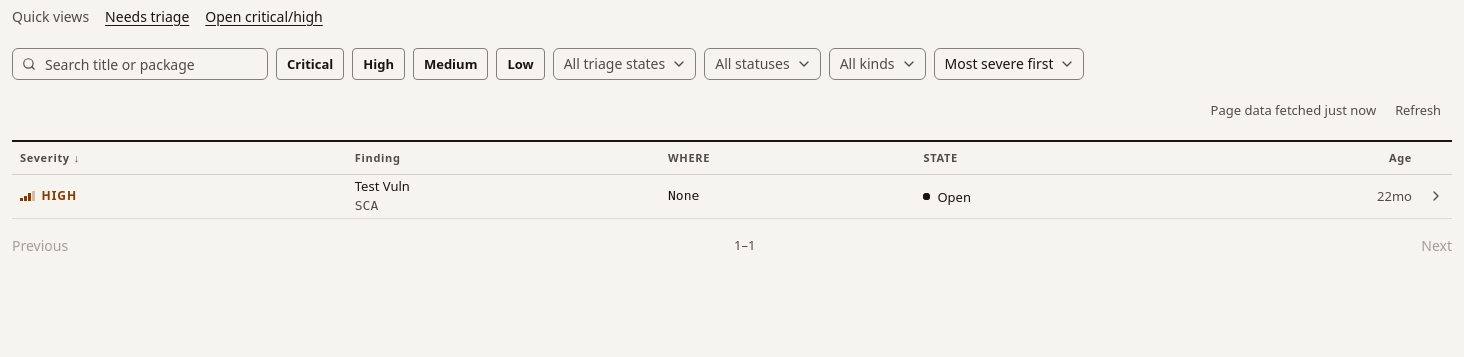
Test: FindingsDashboard › offers DAST as a finding kind filter and requests kind=dast
This screenshot has width=1464, height=357.
Expected: the link "Test Vuln" is shown, [355,177,410,195]
Click the dropdown named "Filter by finding type" at (877, 64), box [829,48,926,80]
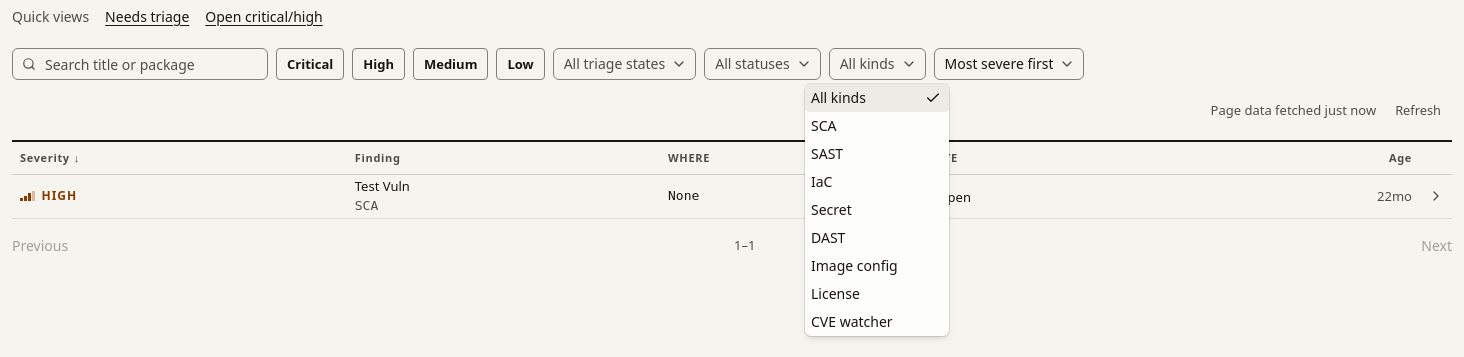
Press Escape
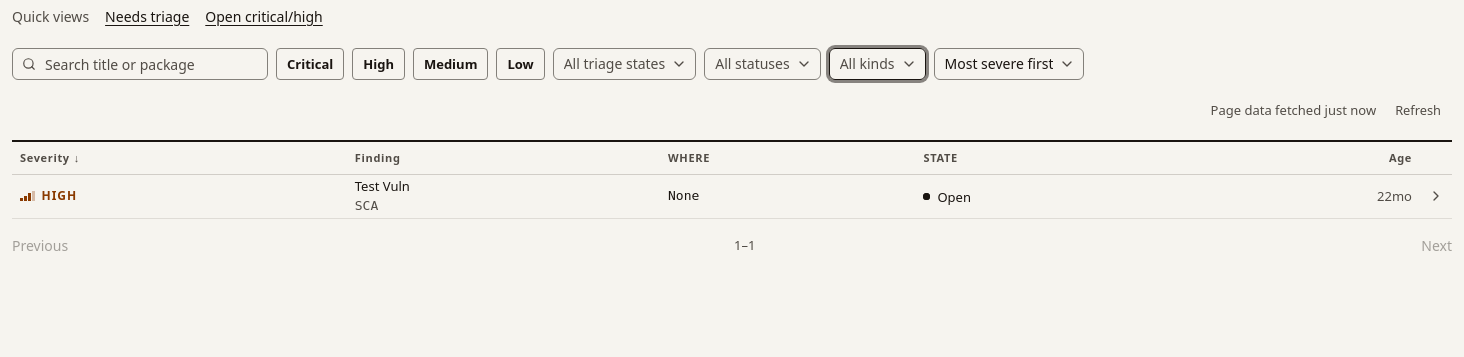
Click the dropdown named "Filter by finding type" at (877, 64), box [829,48,926,80]
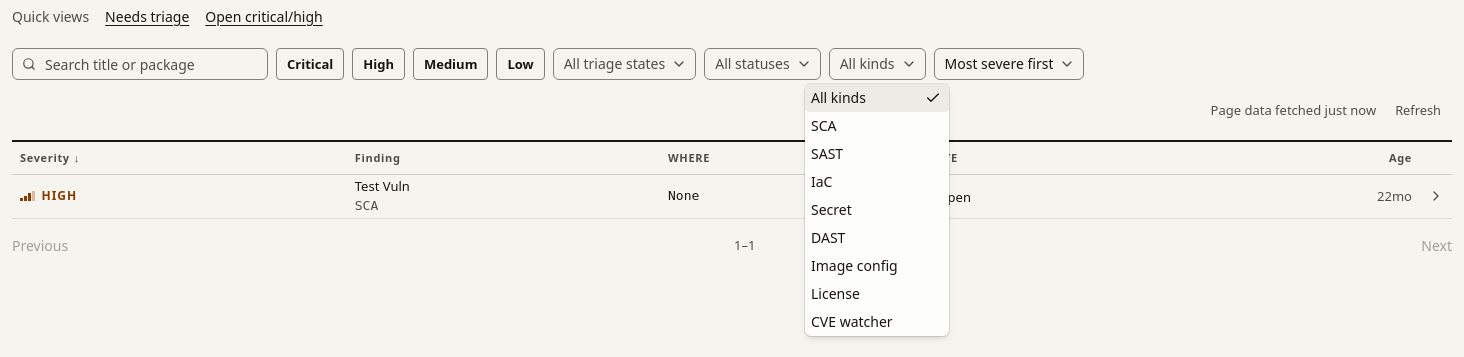
Click the option "DAST" at (828, 238), box [811,228,845,247]
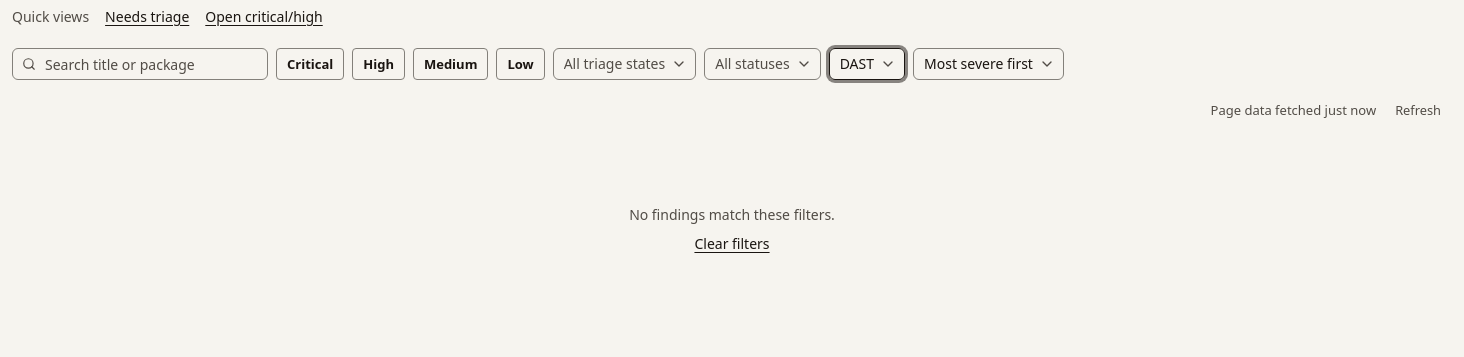
Result: the text "No findings match these filters." is shown at [629,204,835,225]
